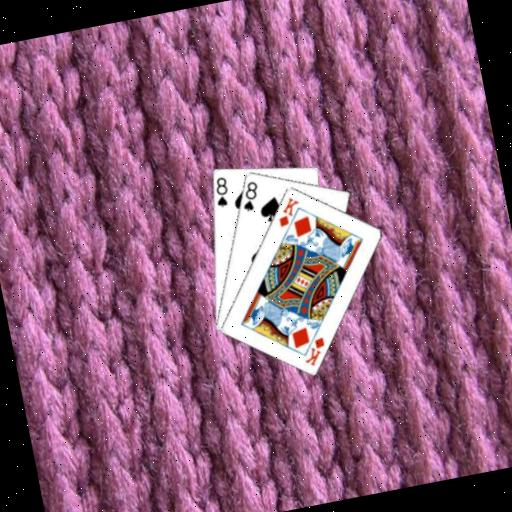8S: (235, 177, 264, 214), (209, 173, 233, 210)
KD: (272, 193, 305, 230), (297, 332, 330, 369)
